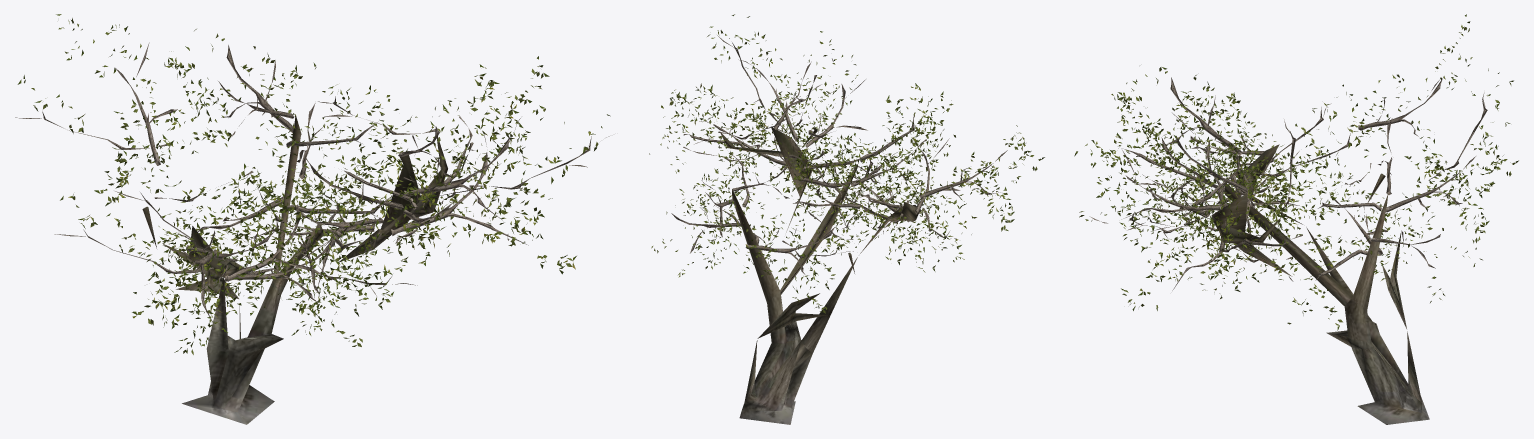
File: island_tree_02.lod.glb
3 renders of one model, left to right at view 1: azimuth 30°, elevation 25°; view 2: azimuth 150°, elevation 25°; view 3: azimuth 270°, elevation 25°, orthographic. The views are drawn at different scales.
Visible parts, largest first — view 1: island_tree_02_LOD0; view 2: island_tree_02_LOD0; view 3: island_tree_02_LOD0.
Part boxes in pixels (x1,y1,x2,y2): island_tree_02_LOD0: (15, 14, 610, 424); island_tree_02_LOD0: (649, 14, 1044, 424); island_tree_02_LOD0: (1074, 14, 1518, 424).
Bounding box in the file's own units: 4.03 × 3.38 × 4.03.
3 materials, 3 textured.
